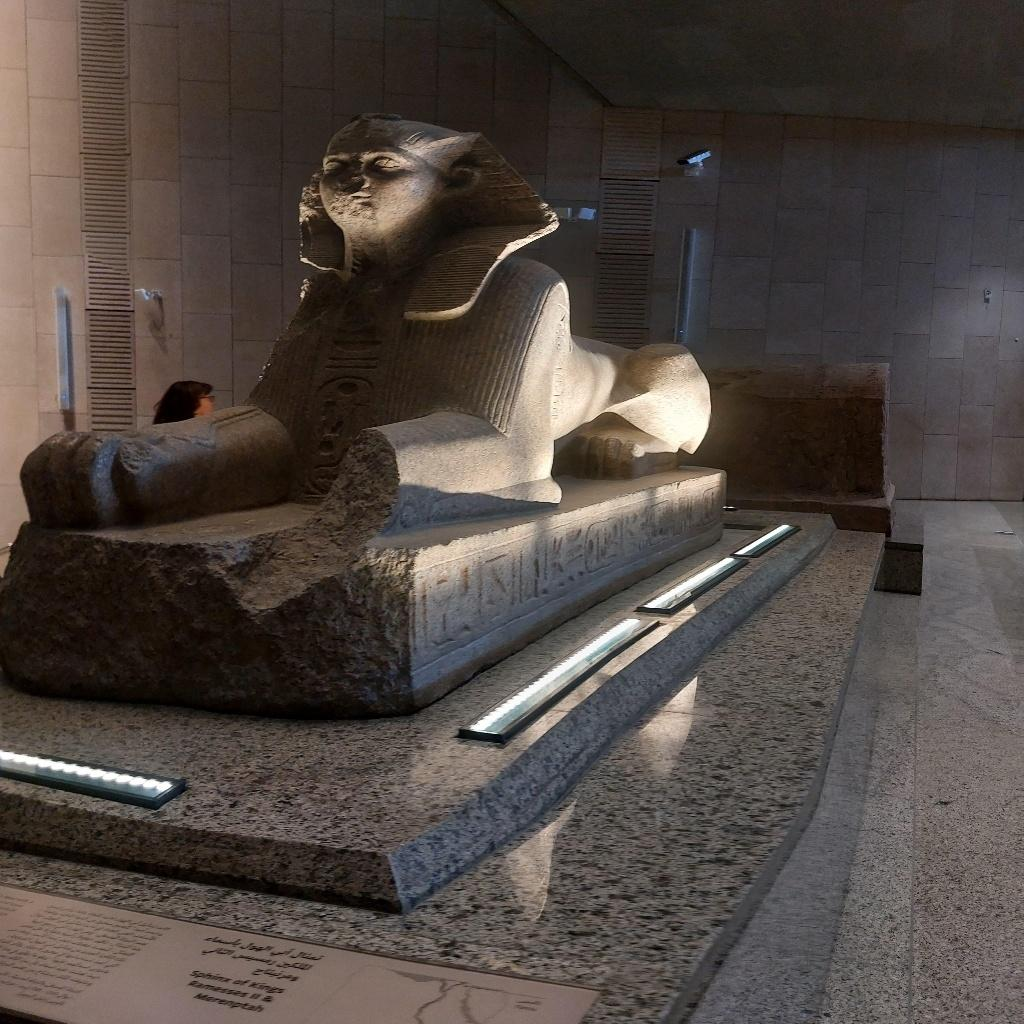Sphinx of Kings Ramesses ll - Merenptah: (18, 110, 708, 530)
